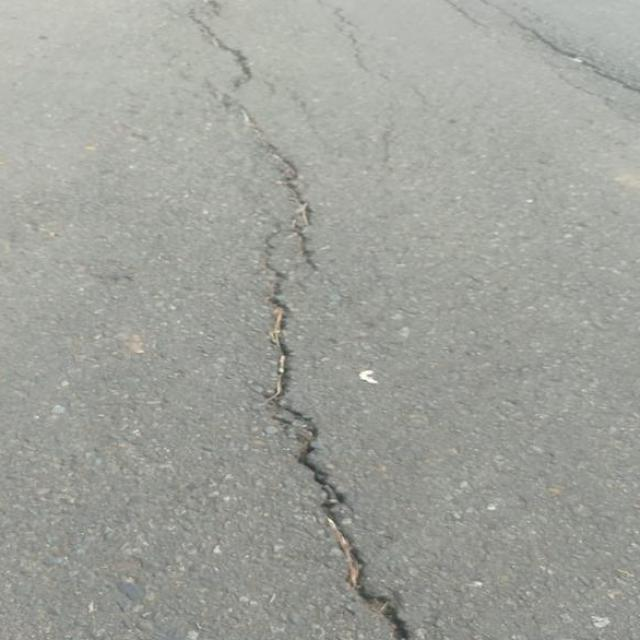Memanjang: (184, 0, 432, 640)
